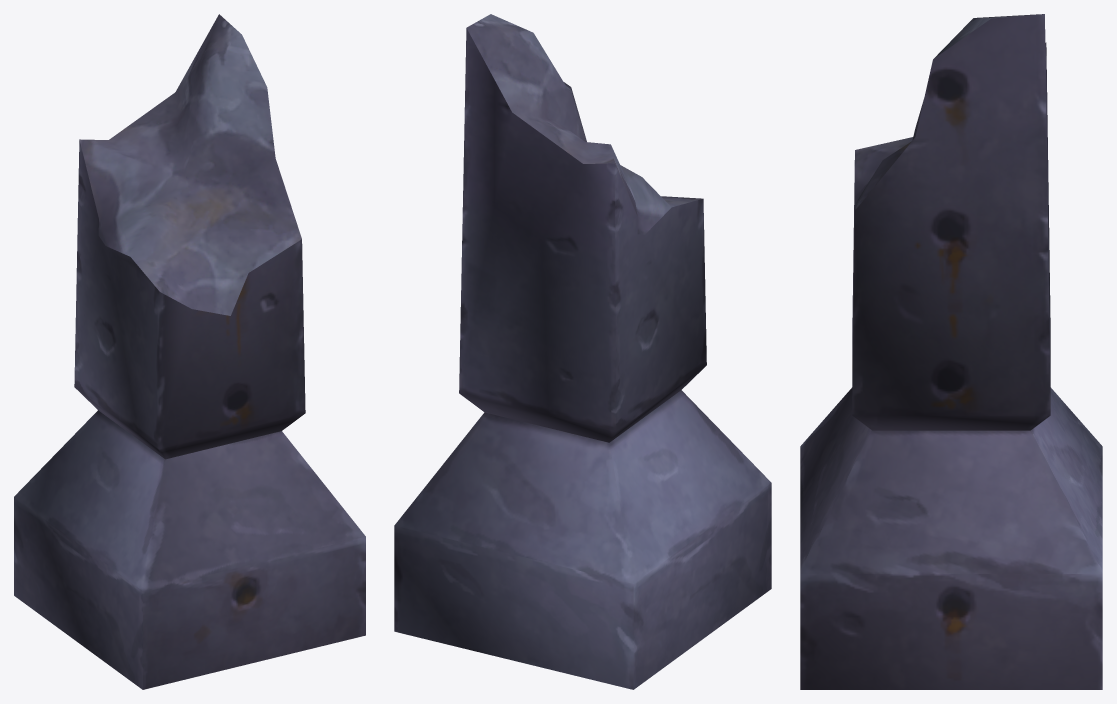
The model's file is SleepingGarden_Pillar_04.fbx.
The picture shows the model from 3 angles, left to right: view 1: azimuth 30°, elevation 25°; view 2: azimuth 150°, elevation 25°; view 3: azimuth 270°, elevation 25°; orthographic projection. The views are drawn at different scales.
Visible parts, largest first — view 1: SleepingGarden_Pillar_04; view 2: SleepingGarden_Pillar_04; view 3: SleepingGarden_Pillar_04.
Part boxes in pixels (left/top/right/bottom): SleepingGarden_Pillar_04: left=14, top=14, right=365, bottom=689; SleepingGarden_Pillar_04: left=394, top=14, right=771, bottom=689; SleepingGarden_Pillar_04: left=800, top=14, right=1102, bottom=689.
Bounding box in the file's own units: 0.64 × 1.52 × 0.64.
Materials: 1 (1 with a texture image).
